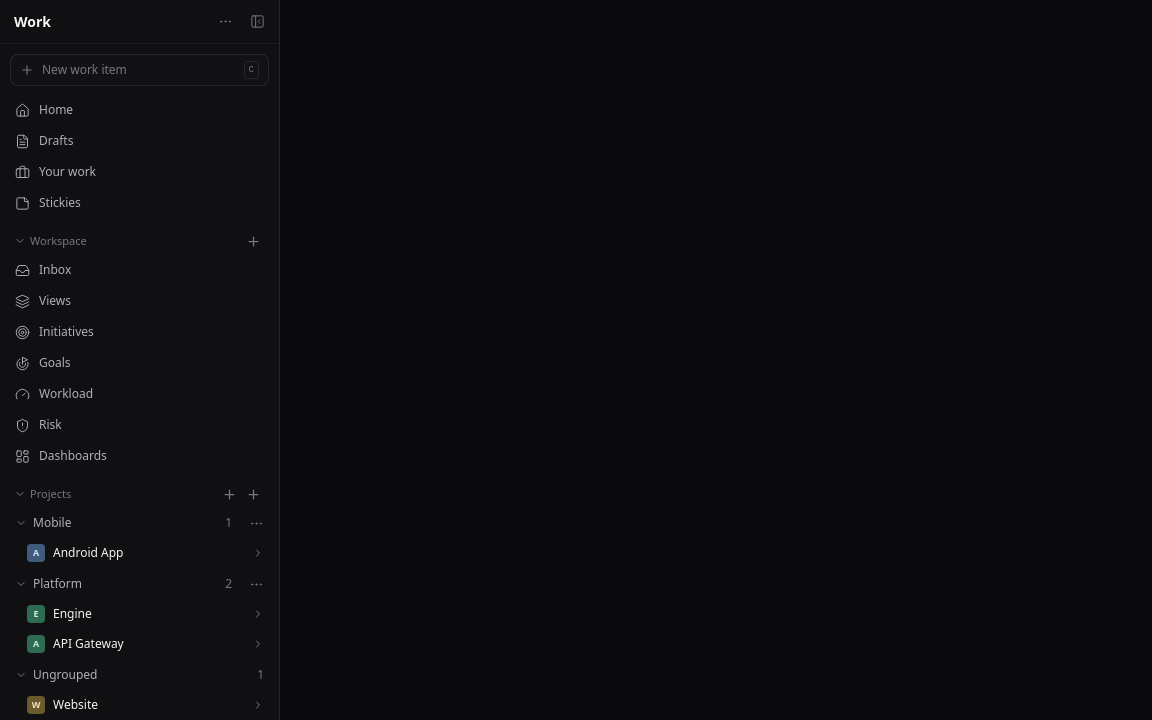
Test: teamspace manage dialog › delete confirm states the ungrouped count and ungroups on confirm
Click the button named "Mobile teamspace menu".
click(256, 523)  # box [244,511,268,535]
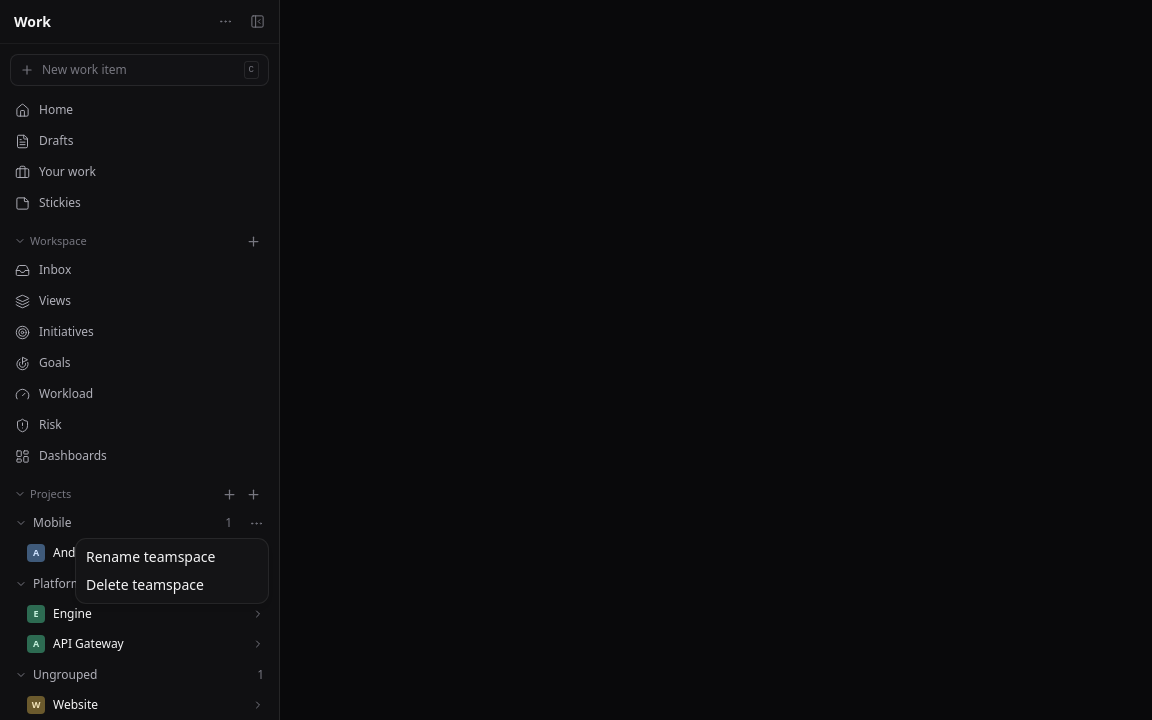
Click the menu item "Delete teamspace".
click(145, 584)  # box [86,575,204,594]
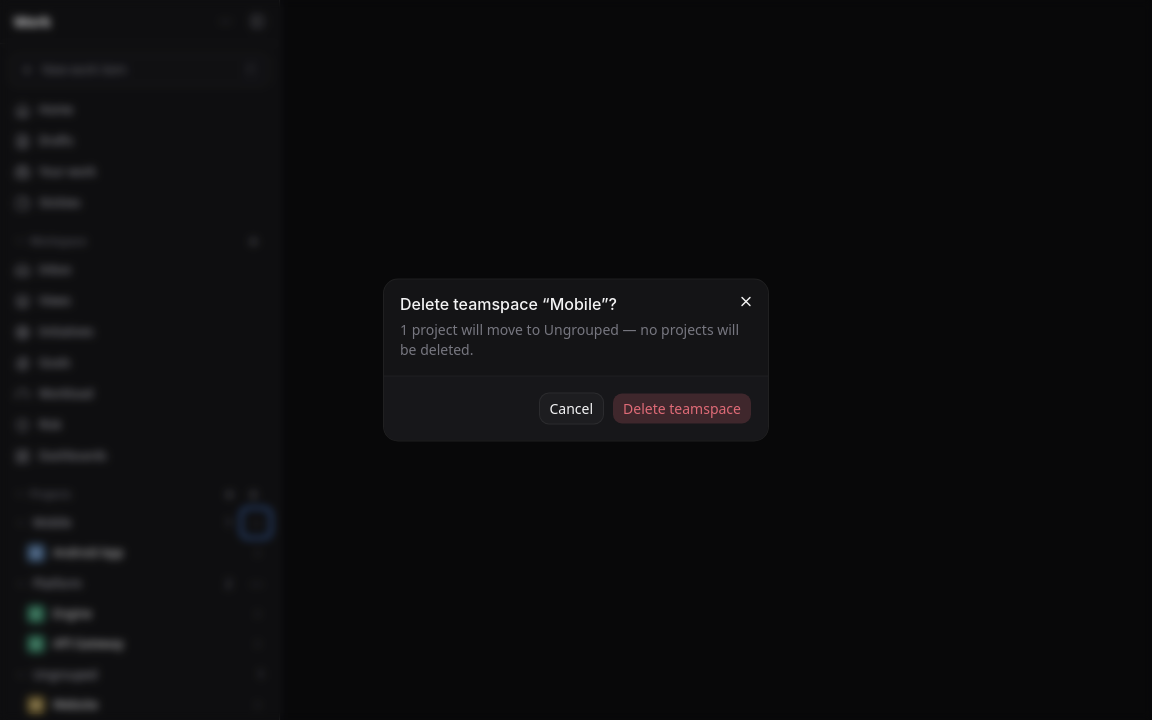
Check: the dialog shows "1 project will move to Ungrouped — no projects will be deleted.", box [384,280,768,440]
Click the button "Delete teamspace".
click(682, 408)  # box [612,392,752,424]
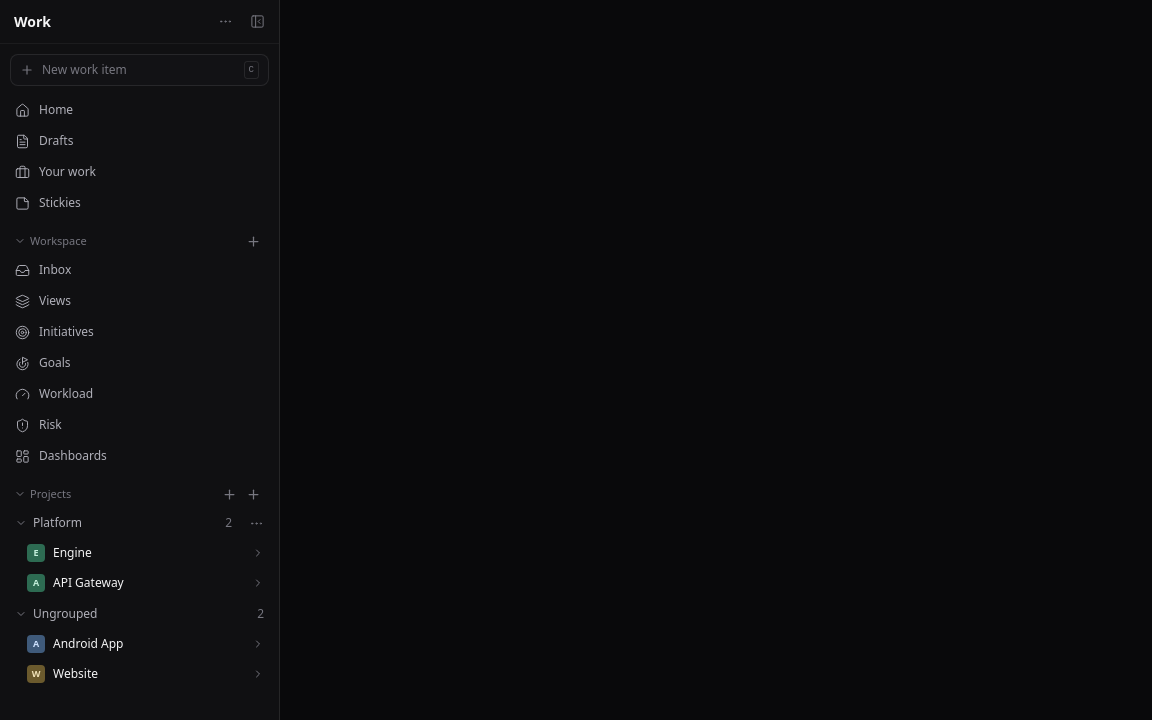
Check: the text "Android App" is shown, box [53,635,124,653]
Check: the button "Mobile" is gone
